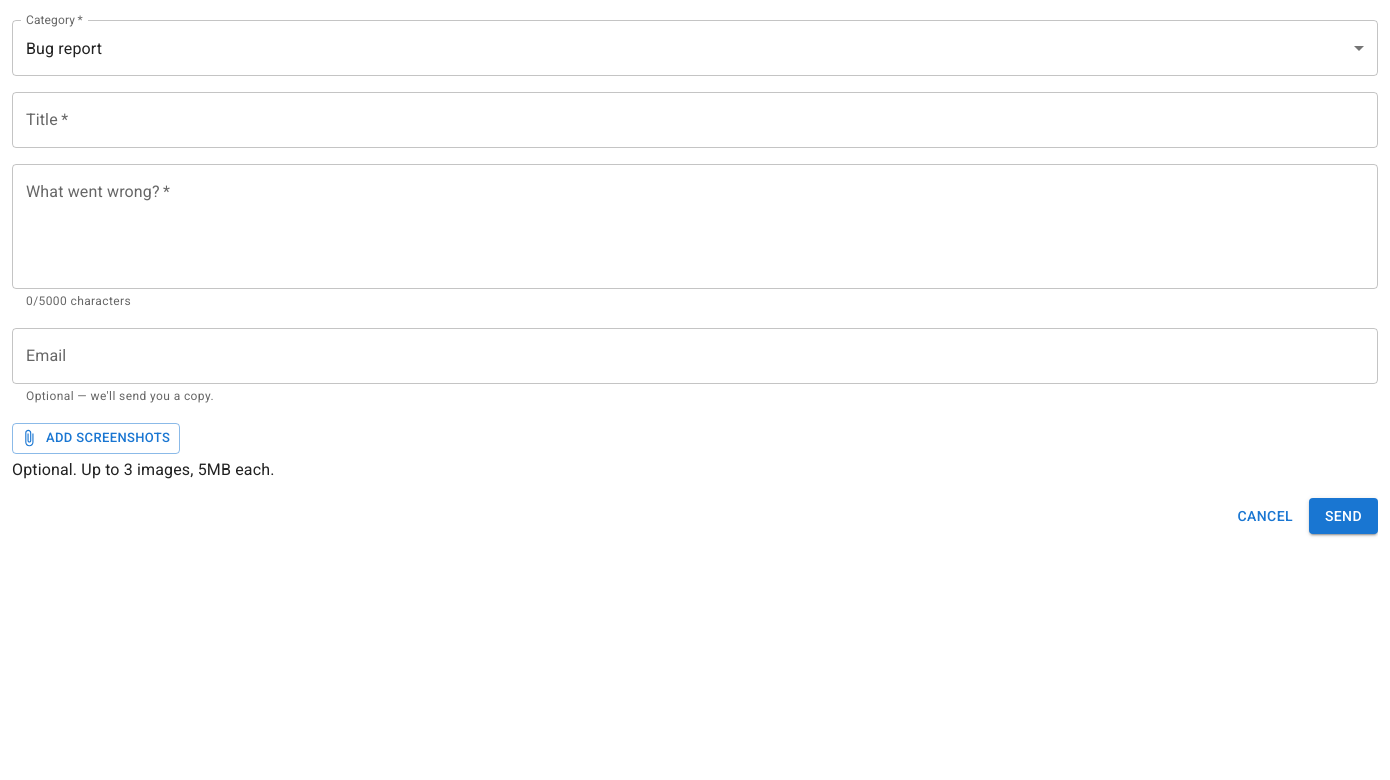
Scenario: FeedbackForm › surfaces a server error and stays on the form
The width and height of the screenshot is (1390, 780).
In the field labelled "Title *": [695, 120] box [12,92,1378,148], type "Broken image"
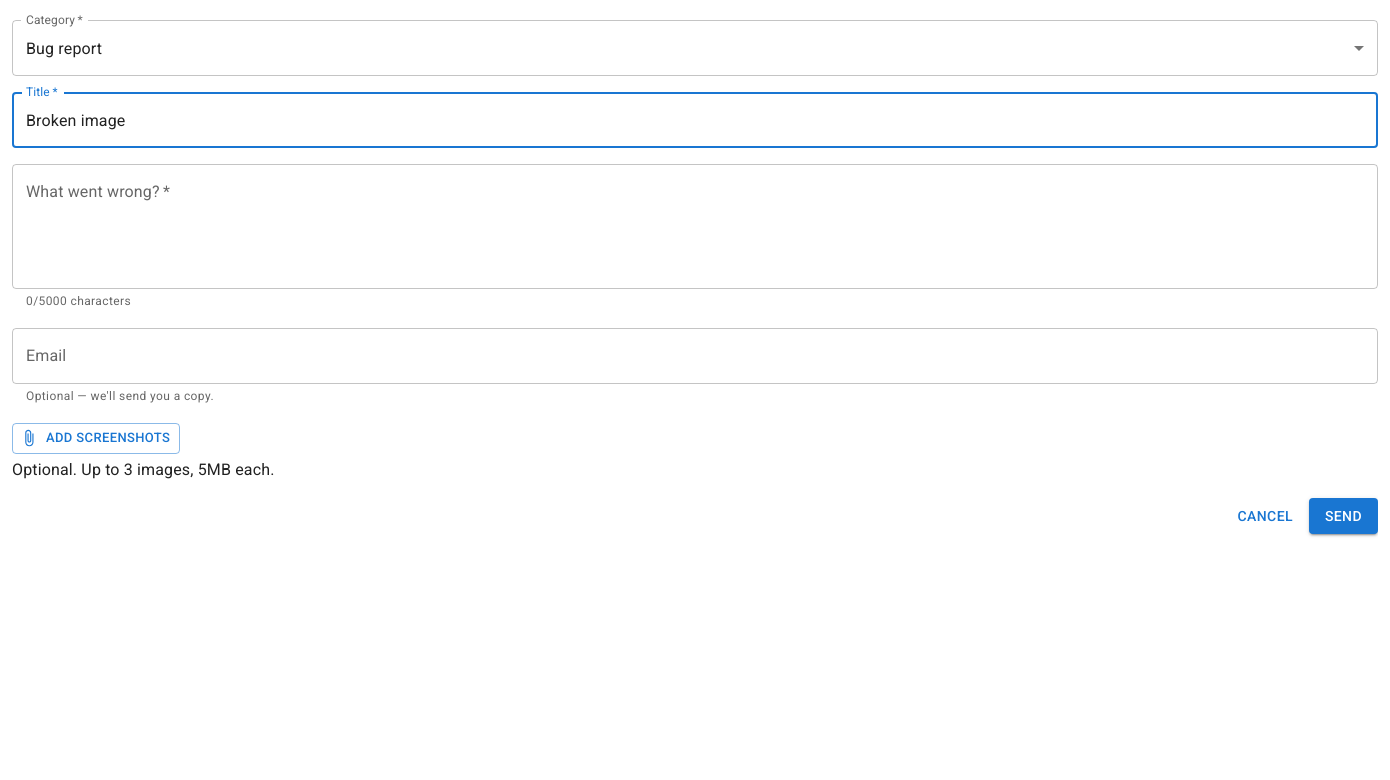
In the text box labelled "What went wrong? *": [695, 226] box [26,180,1364,272], type "The thumbnail is blank."
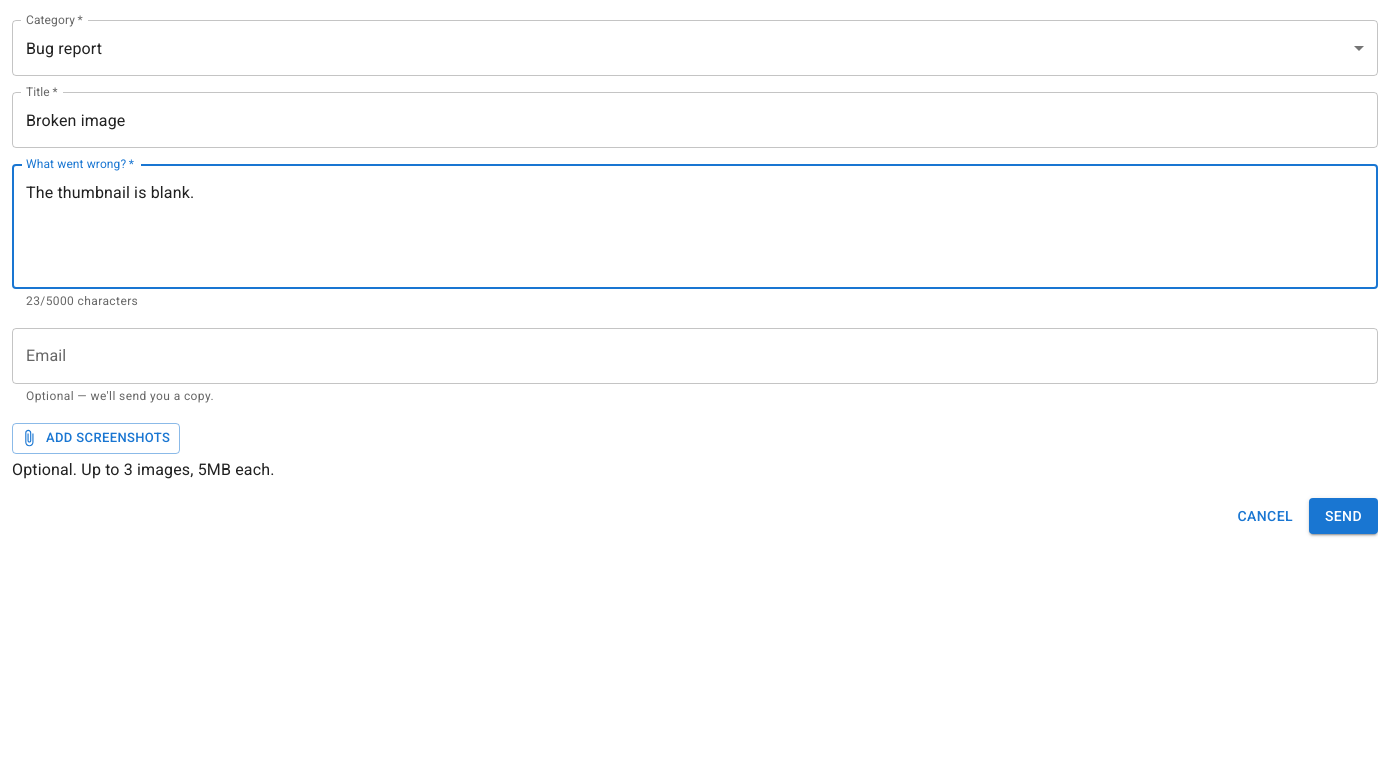
Click the button "Send": [1343, 516] box [1309,498,1378,534]
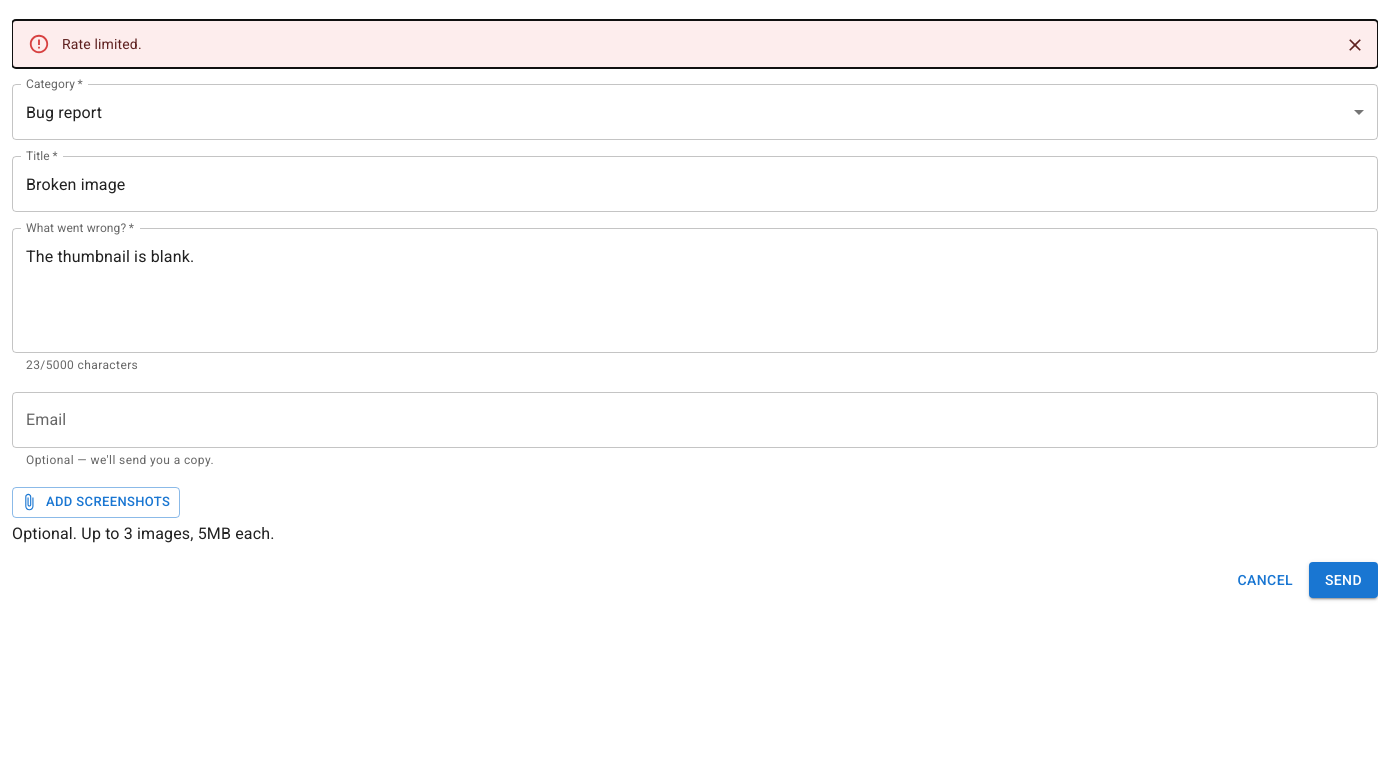
Expected: the button "Send" is shown, [1309,562,1378,598]
Result: the text "Rate limited." is shown at [62,36,142,52]
